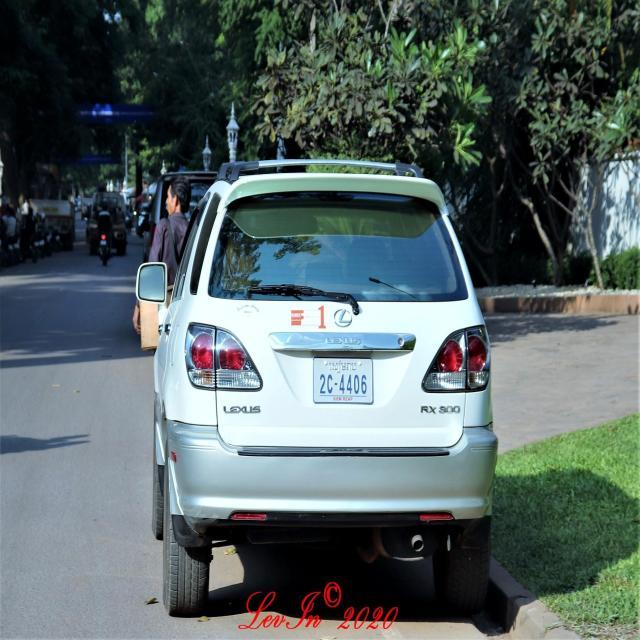Siem_Reap: (328, 361, 356, 374)
